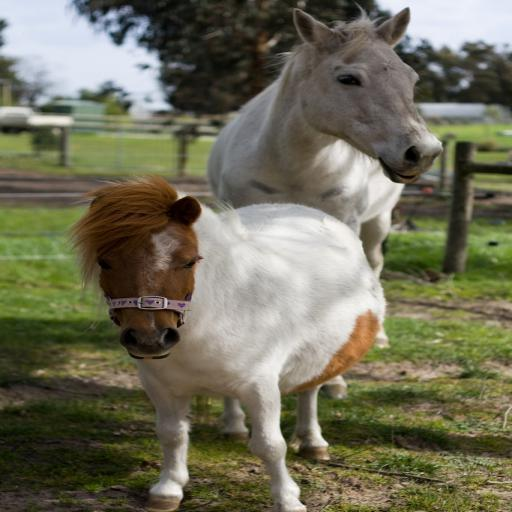horse: (62, 171, 384, 512), (203, 0, 447, 402)
